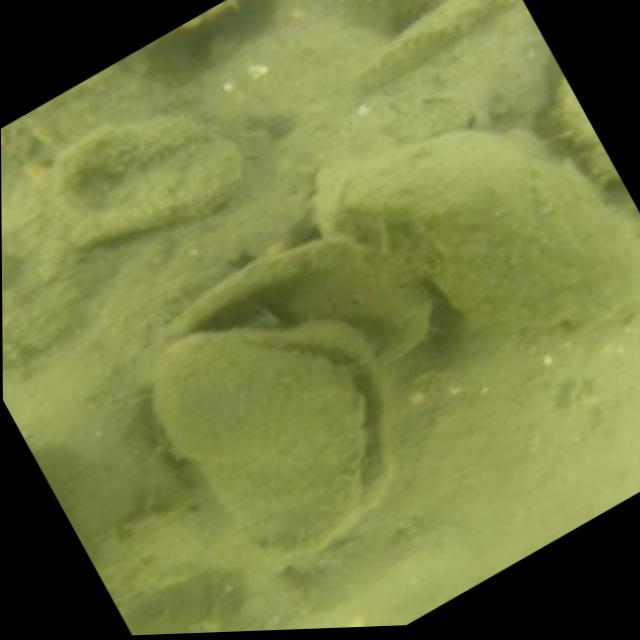Oyster-Indeterminate: (330, 123, 640, 343), (145, 237, 450, 372), (43, 101, 255, 250)
Oyster-Open: (145, 314, 416, 578)
